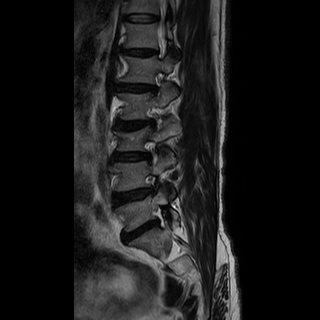RFS0: (139, 101, 169, 135), (144, 203, 172, 234), (137, 133, 163, 166)
RFS1: (144, 65, 173, 100)
RFS2: (139, 168, 165, 202)
